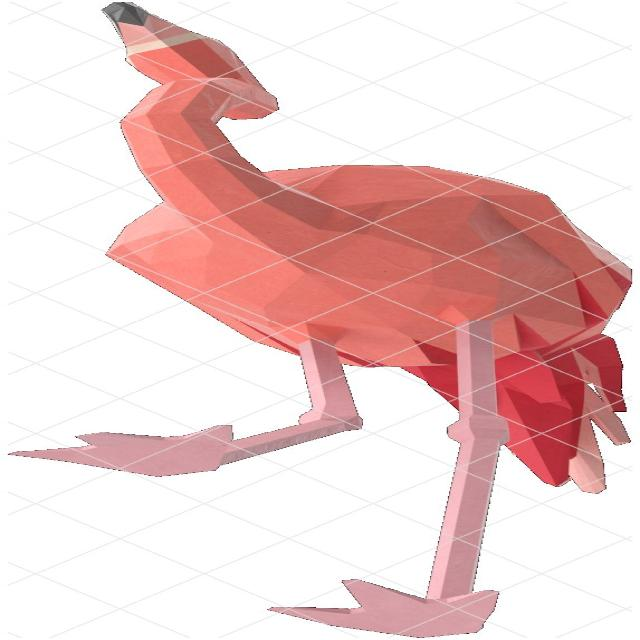Flamingo: (12, 0, 640, 640)
